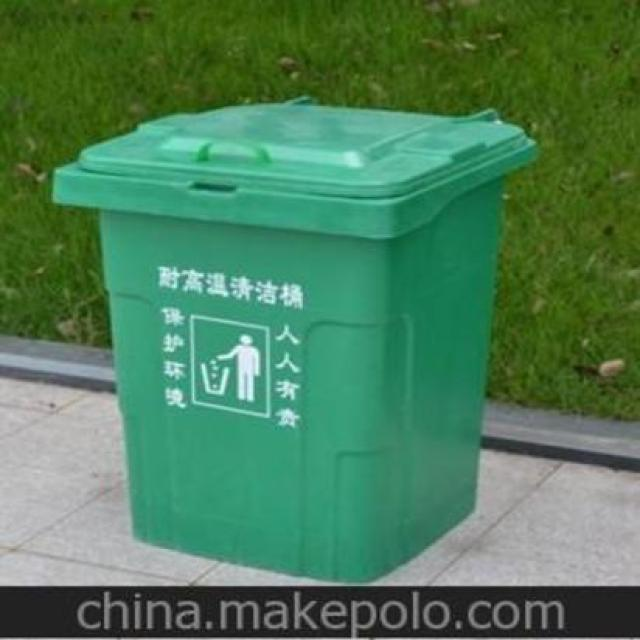garbage_bin: (53, 101, 537, 582)
